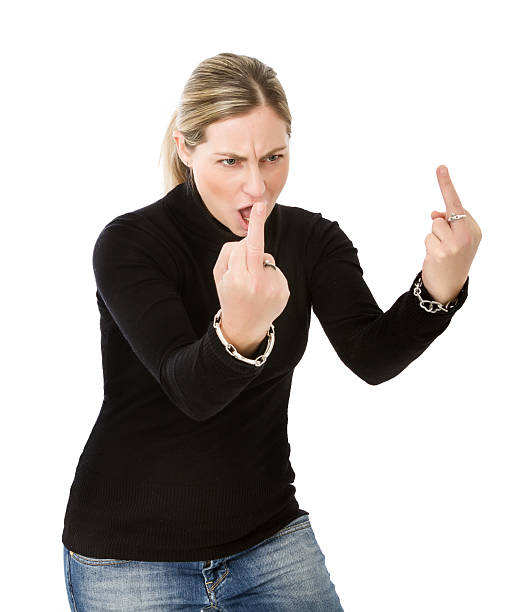insulting_gesture: (211, 195, 290, 329), (422, 164, 483, 289)
